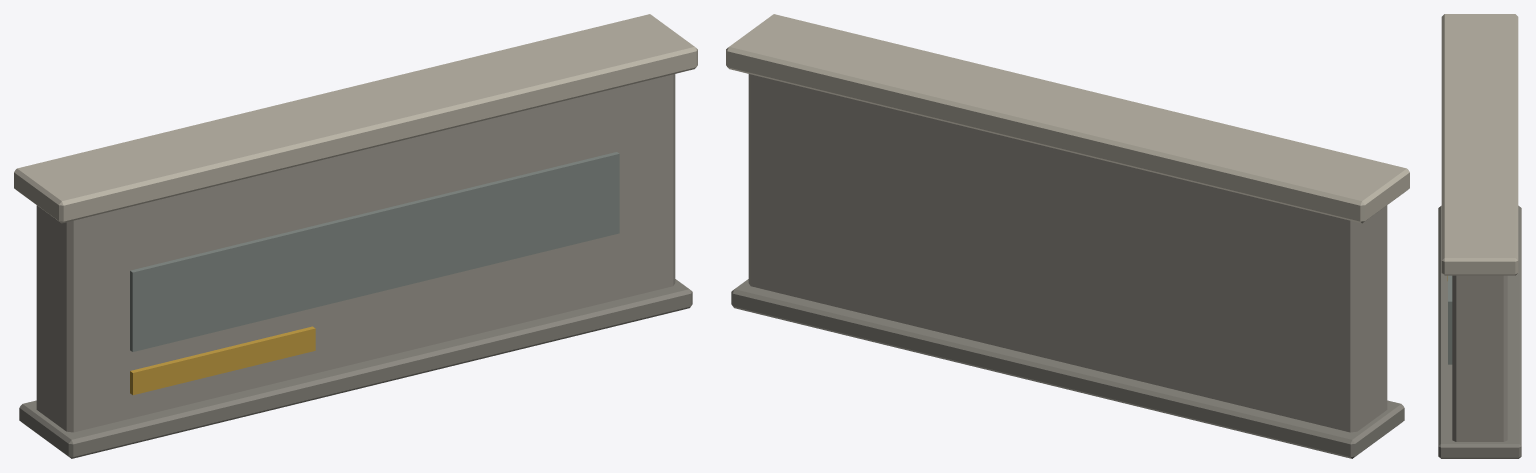
Rendered from ENV_WallSection.glb.
3 renders of one model, left to right at view 1: azimuth 30°, elevation 25°; view 2: azimuth 150°, elevation 25°; view 3: azimuth 270°, elevation 25°, orthographic. The views are drawn at different scales.
Visible parts, largest first — view 1: Wall_Main, Wall_Cap, Wall_Inset, Wall_Foot, Wall_Stripe; view 2: Wall_Main, Wall_Cap, Wall_Foot; view 3: Wall_Cap, Wall_Main, Wall_Foot, Wall_Inset.
Part boxes in pixels (box(x1,y1,x2,y2)): Wall_Main: box(36, 74, 675, 432); Wall_Cap: box(14, 14, 697, 223); Wall_Inset: box(130, 152, 619, 351); Wall_Foot: box(19, 279, 692, 458); Wall_Stripe: box(130, 326, 315, 395); Wall_Main: box(748, 74, 1387, 432); Wall_Cap: box(726, 14, 1409, 223); Wall_Foot: box(731, 279, 1404, 458); Wall_Cap: box(1441, 14, 1518, 275); Wall_Main: box(1452, 275, 1507, 441); Wall_Foot: box(1438, 205, 1521, 458); Wall_Inset: box(1448, 275, 1452, 364).
Size of the model in its own units: 4.2 by 1.62 by 0.6.
